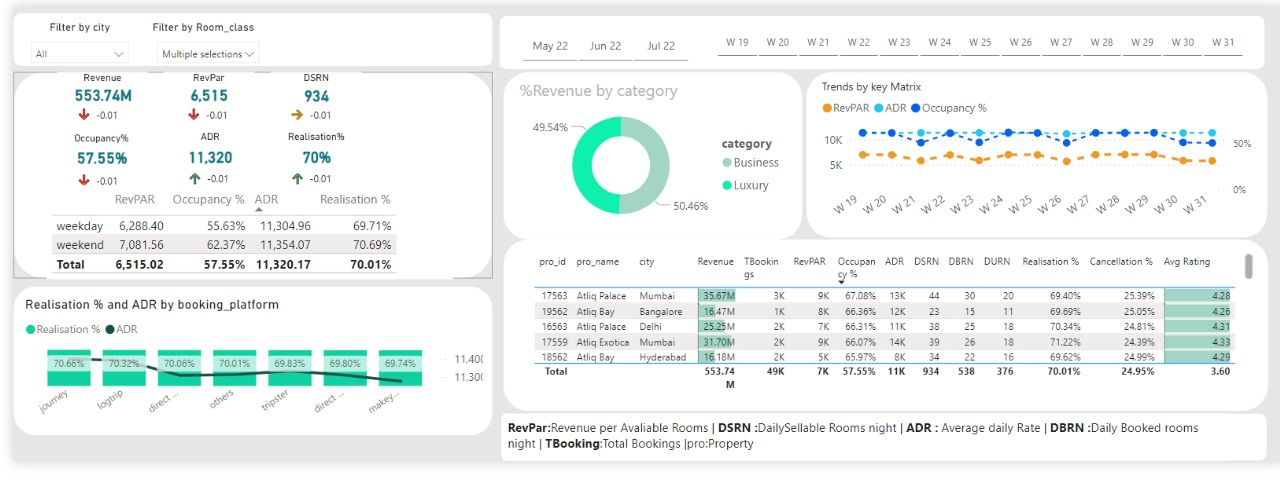

The dashboard page shown, as its layout file describes it:
{"tool":"powerbi","page":{"name":"Page 1","canvas":[1400,500],"ordinal":0},"visuals":[{"type":"shape","box":[539,256.4,841.9,189.6],"z":0},{"type":"shape","box":[873.2,72,507.3,182.9],"z":1000},{"type":"shape","box":[539,71.6,329.1,184.8],"z":2000},{"type":"shape","box":[0,307.7,527.1,164.6],"z":3000},{"type":"shape","box":[0,71.6,527.1,227.8],"z":4000},{"type":"shape","box":[539,0,841.9,59.6],"z":5000},{"type":"shape","box":[0,2.4,527.1,58.4],"z":6000},{"type":"tableEx","fields":{"Values":["Dim_hotels.property_id","Dim_hotels.property_name","Dim_hotels.city","key_measure.Revenue","key_measure.Total Bookings","key_measure.RevPAR","key_measure.Occupancy %","key_measure.ADR","key_measure.DSRN","key_measure.DBRN","key_measure.DURN","key_measure.Realisation %"]},"box":[567.6,265.9,801.4,162.2],"z":7000},{"type":"slicer","title":"Filter by city","fields":{"Values":["Dim_hotels.city"]},"box":[8.5,11,128,50],"z":8000},{"type":"slicer","title":"Filter by Room_class","fields":{"Values":["Dim_rooms.room_class"]},"box":[147.6,11,132.9,48.8],"z":9000},{"type":"slicer","fields":{"Values":["Dim_date.mmm yy"]},"box":[539,10.7,231.3,46.5],"z":10000},{"type":"slicer","fields":{"Values":["Dim_date.week no"]},"box":[738.2,13.8,626.8,46.3],"z":11000},{"type":"donutChart","title":"%Revenue by category","fields":{"Category":["Dim_hotels.category"],"Y":["key_measure.Occupancy %"]},"box":[552.1,78.7,306.5,171.7],"z":12000},{"type":"tableEx","fields":{"Values":["key_measure.Revenue WoW change %"]},"box":[59.8,76.8,100,70.7],"z":13000},{"type":"card","title":"Revenue","fields":{"Values":["key_measure.Revenue"]},"box":[47.6,72,100,40.2],"z":14000},{"type":"tableEx","fields":{"Values":["key_measure.Revenue WoW change %"]},"box":[180.5,76.8,100,70.7],"z":15000},{"type":"tableEx","fields":{"Values":["key_measure.Revenue WoW change %"]},"box":[295.1,77.2,100,69.5],"z":16000},{"type":"card","title":"DSRN","fields":{"Values":["key_measure.DSRN"]},"box":[282.9,71.1,100,41.5],"z":17000},{"type":"card","title":"RevPar","fields":{"Values":["key_measure.RevPAR"]},"box":[164.6,72,100,40.2],"z":18000},{"type":"tableEx","fields":{"Values":["key_measure.Revenue WoW change %"]},"box":[182.1,147.2,100,70.7],"z":19000},{"type":"tableEx","fields":{"Values":["key_measure.Revenue WoW change %"]},"box":[59.8,148.8,100,70.7],"z":20000},{"type":"tableEx","fields":{"Values":["key_measure.Revenue WoW change %"]},"box":[295.1,146.7,100,56.1],"z":21000},{"type":"card","title":"Realisation%","fields":{"Values":["key_measure.Realisation %"]},"box":[282.9,137,100,46.3],"z":22000},{"type":"card","title":"ADR","fields":{"Values":["key_measure.ADR"]},"box":[165.9,136.6,100,46.3],"z":23000},{"type":"card","title":"Occupancy%","fields":{"Values":["key_measure.Occupancy %"]},"box":[47.2,138.2,100,46.3],"z":24000},{"type":"lineChart","title":"Trends by key Matrix","fields":{"Category":["Dim_date.mmm yy.Variation.Date Hierarchy.Month","Dim_date.week no"],"Y":["key_measure.RevPAR","key_measure.ADR"],"Y2":["key_measure.Occupancy %"]},"box":[884.1,79.3,485.4,170.7],"z":25000},{"type":"lineStackedColumnComboChart","fields":{"Category":["fact_booking.booking_platform"],"Y":["key_measure.Realisation %"],"Y2":["key_measure.ADR"]},"box":[7.2,319.6,514,141.9],"z":26000},{"type":"tableEx","fields":{"Values":["Dim_date.day_type","key_measure.RevPAR","key_measure.Occupancy %","key_measure.ADR","key_measure.Realisation %"]},"box":[37,195.6,447.2,103.7],"z":27000},{"type":"shape","box":[537,448.2,842.8,52.1],"z":28000},{"type":"textbox","box":[538.4,448.2,800,52.1],"z":29000}]}

Visuals, with their boxes on the page's 1400x500 design canvas (x1, y1, x2, y2). These are canvas units, not pixel positions in the 1280x486 screenshot, which may show the page scaled, cropped or inside an application window:
shape: crop(539, 256, 1381, 446)
shape: crop(873, 72, 1380, 255)
shape: crop(539, 72, 868, 256)
shape: crop(0, 308, 527, 472)
shape: crop(0, 72, 527, 299)
shape: crop(539, 0, 1381, 60)
shape: crop(0, 2, 527, 61)
tableEx - Dim_hotels.property_id x Dim_hotels.property_name: crop(568, 266, 1369, 428)
"Filter by city" slicer: crop(8, 11, 136, 61)
"Filter by Room_class" slicer: crop(148, 11, 280, 60)
slicer - Dim_date.mmm yy: crop(539, 11, 770, 57)
slicer - Dim_date.week no: crop(738, 14, 1365, 60)
"%Revenue by category" donutChart: crop(552, 79, 859, 250)
tableEx - key_measure.Revenue WoW change %: crop(60, 77, 160, 148)
"Revenue" card: crop(48, 72, 148, 112)
tableEx - key_measure.Revenue WoW change %: crop(180, 77, 280, 148)
tableEx - key_measure.Revenue WoW change %: crop(295, 77, 395, 147)
"DSRN" card: crop(283, 71, 383, 113)
"RevPar" card: crop(165, 72, 265, 112)
tableEx - key_measure.Revenue WoW change %: crop(182, 147, 282, 218)
tableEx - key_measure.Revenue WoW change %: crop(60, 149, 160, 220)
tableEx - key_measure.Revenue WoW change %: crop(295, 147, 395, 203)
"Realisation%" card: crop(283, 137, 383, 183)
"ADR" card: crop(166, 137, 266, 183)
"Occupancy%" card: crop(47, 138, 147, 184)
"Trends by key Matrix" lineChart: crop(884, 79, 1370, 250)
lineStackedColumnComboChart - fact_booking.booking_platform x key_measure.Realisation %: crop(7, 320, 521, 462)
tableEx - Dim_date.day_type x key_measure.RevPAR: crop(37, 196, 484, 299)
shape: crop(537, 448, 1380, 500)
textbox: crop(538, 448, 1338, 500)
